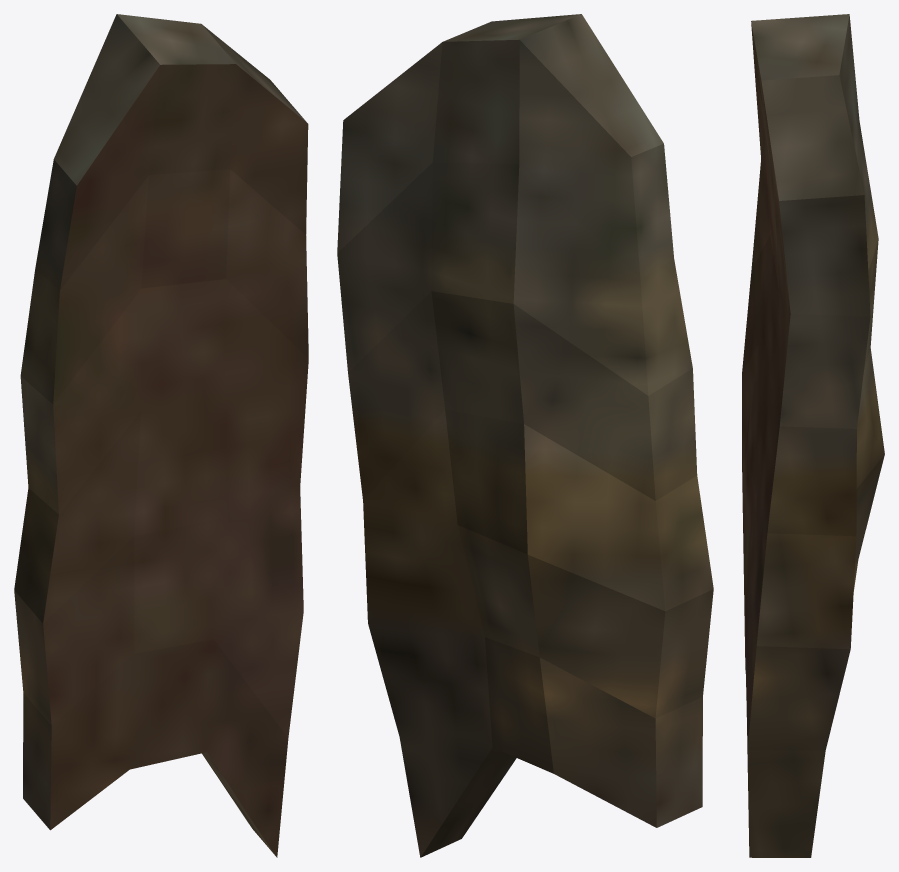
File: SM_DeadTree_Debris_4.fbx
3 renders of one model, left to right at view 1: azimuth 30°, elevation 25°; view 2: azimuth 150°, elevation 25°; view 3: azimuth 270°, elevation 25°, orthographic. The views are drawn at different scales.
Parts seen in each view (by area): view 1: SM_DeadTree_Debris_4; view 2: SM_DeadTree_Debris_4; view 3: SM_DeadTree_Debris_4.
Part boxes in pixels (box(x1,y1,x2,y2)): SM_DeadTree_Debris_4: box(14, 14, 308, 857); SM_DeadTree_Debris_4: box(337, 14, 713, 857); SM_DeadTree_Debris_4: box(742, 14, 884, 857).
Size of the model in its own units: 12.78 by 34.53 by 5.63.
